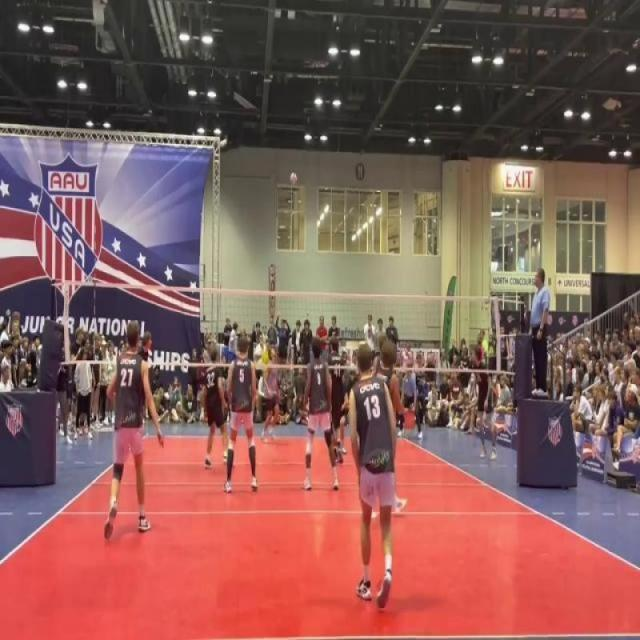volleyball: (290, 172, 298, 186)
